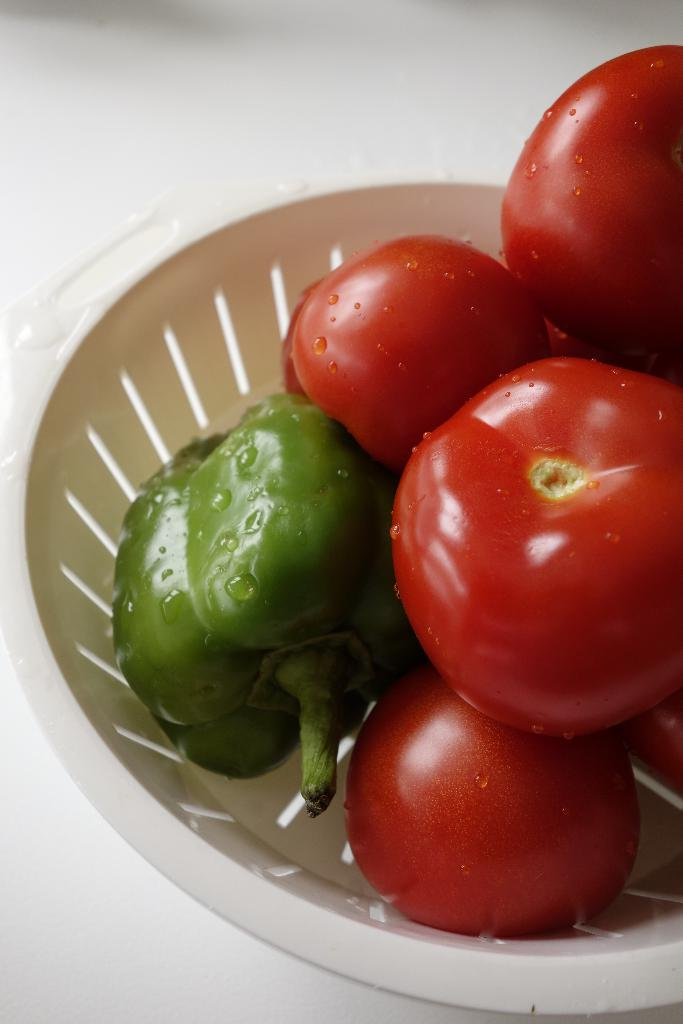Tomato: (388, 350, 682, 759), (340, 668, 650, 938), (500, 46, 682, 399), (287, 222, 547, 455)
